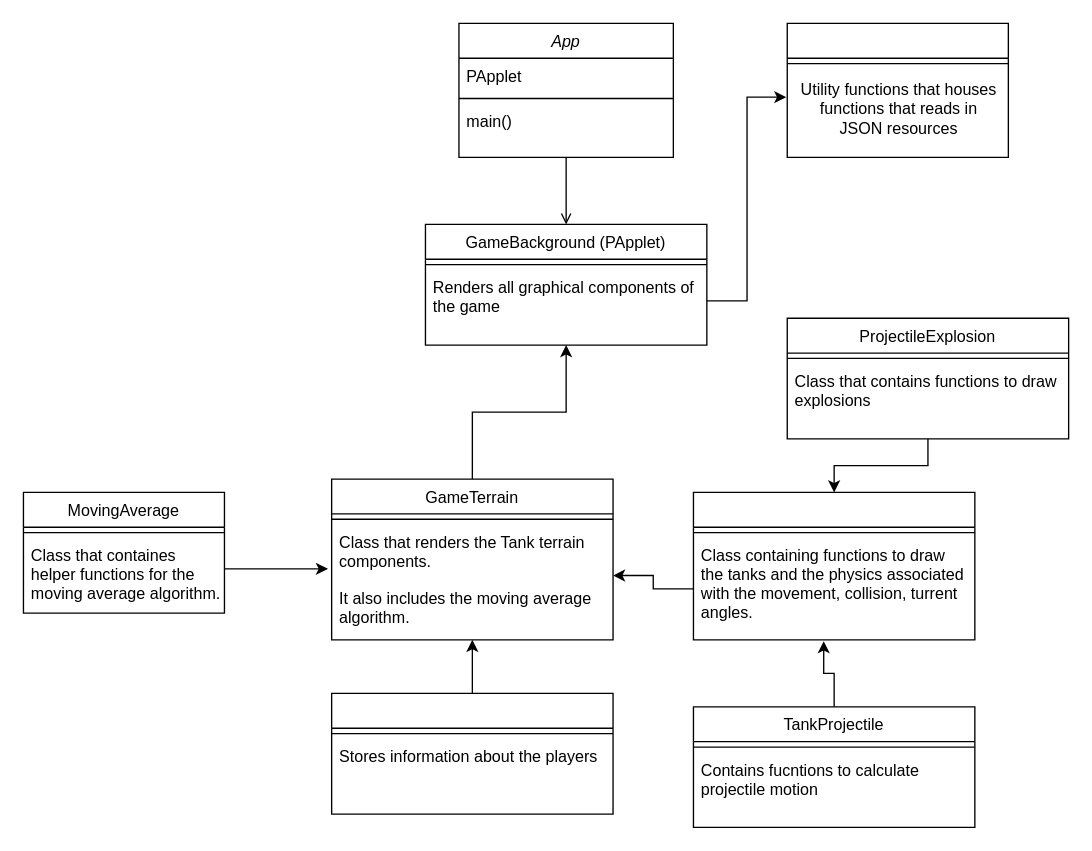
Image size: 1092x851. Some labels were removed from this diagram. The box of each missing label's shape, as (x1, y1, x2, y2) in pixels:
AppUtils: (786, 22, 1008, 157)
GamePlayers: (330, 692, 613, 814)
GameTanks: (692, 491, 975, 640)
